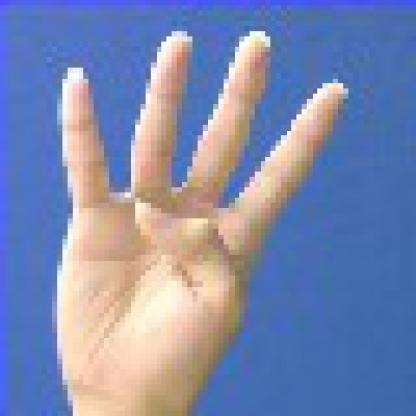four: (42, 14, 360, 406)
